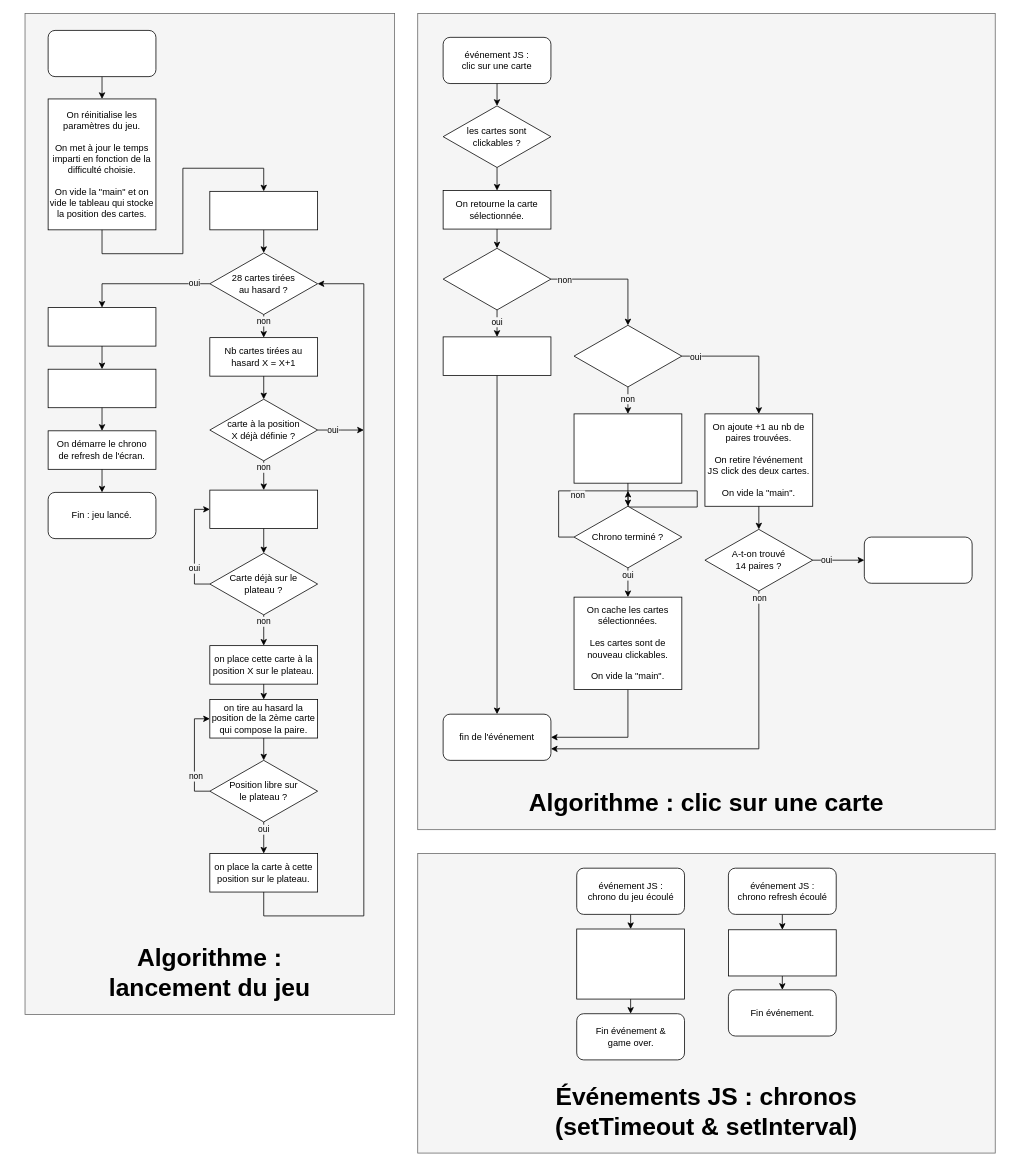
Image size: 1009x1167. Some labels were removed from this diagram. Here are the shapes that lost their labels. From the top down, the centre of each, then its label:
the point at 101,53: Lancement du jeu (fonction launch(time))
the point at 263,210: Nb cartes tirées au hasard X = 0
the point at 496,279: Première carte sélectionnée ?
the point at 101,326: On créé les 28 cellules de la grille (tableau de jeu).
the point at 496,355: On stocke la carte sélectionnée.
the point at 627,356: Les deux cartes sont identiques ?
the point at 101,388: On démarre le chrono du jeu.
the point at 627,448: On rend les cartes non clickables. On lance un chrono de 1 seconde.
the point at 263,509: On tire une carte au hasard.
the point at 918,559: Partie gagnée !
the point at 630,963: On stoppe le chrono de refresh de l'écran. On affiche l'écran game_over.
the point at 782,952: On met à jour le temps restant affiché et la barre de progression.
